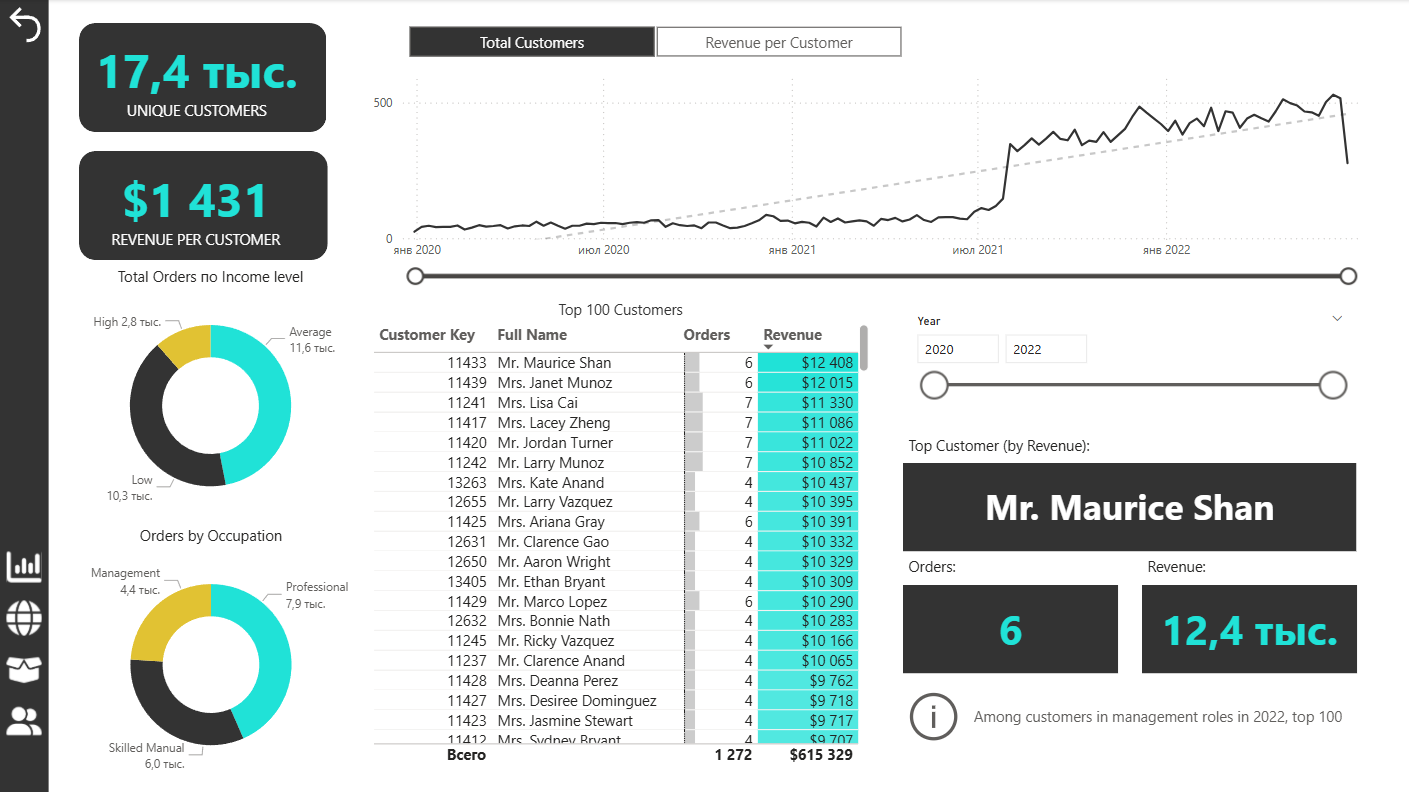

The page's visual inventory and layout, read from the dashboard file:
{"tool":"powerbi","page":{"name":"Customer Detail","canvas":[1280,720],"ordinal":3},"visuals":[{"type":"shape","box":[0,0,45,720],"z":0},{"type":"actionButton","box":[2.4,541.4,54.1,40],"z":0,"group":"g1"},{"type":"shape","box":[72.4,21.5,224.4,98.9],"z":1000},{"type":"actionButton","box":[2.4,587.9,54.1,40],"z":1000,"group":"g1"},{"type":"shape","box":[72.4,138.3,225.6,98.9],"z":2000},{"type":"actionButton","box":[2.4,494.8,54.1,40],"z":2000,"group":"g1"},{"type":"card","fields":{"Values":["Measure Table.Total Customers"]},"box":[57.6,18.2,244.4,107.8],"z":3000},{"type":"actionButton","box":[2.4,634.5,54.1,40],"z":3000,"group":"g1"},{"type":"card","fields":{"Values":["Measure Table.Average Revenue per Customer"]},"box":[56.5,134.9,244.4,107.8],"z":4000},{"type":"lineChart","title":"Customers Trending","fields":{"Y":["Measure Table.Total Customers"],"Category":["Calendar Lookup.Date Hierarchy.Start of Year","Calendar Lookup.Date Hierarchy.Start of Month","Calendar Lookup.Date Hierarchy.Start of Week","Calendar Lookup.Date Hierarchy.Date"]},"box":[333.6,55.4,916.2,206.6],"z":5000},{"type":"donutChart","fields":{"Category":["Customer Lookup.Income level"],"Y":["Measure Table.Total Orders"]},"box":[56.9,243.4,269.4,234.5],"z":6000},{"type":"donutChart","title":"Orders by Occupation","fields":{"Y":["Measure Table.Total Orders"],"Category":["Customer Lookup.Occupation"]},"box":[57.9,477.9,268.4,234.5],"z":7000},{"type":"tableEx","title":"Top 100 Customers","fields":{"Values":["Customer Lookup.CustomerKey","Customer Lookup.Full Name","Measure Table.Total Orders","Measure Table.Total Revenue"]},"box":[333.4,273,460,425.1],"z":8000},{"type":"card","fields":{"Values":["Measure Table.Full Name (Customer Detail)"]},"box":[820,421,411.2,80.1],"z":9000},{"type":"card","fields":{"Values":["Measure Table.Total Order (Customer Detail)"]},"box":[820,531.2,195.1,80.1],"z":10000},{"type":"card","fields":{"Values":["Measure Table.Total Revenue (Customer Detail)"]},"box":[1036,531.2,195.1,80.1],"z":11000},{"type":"textbox","box":[820,390.8,178.9,30.2],"z":12000},{"type":"textbox","box":[820,500.7,178.9,30.2],"z":13000},{"type":"textbox","box":[1036,500.7,178.9,30.2],"z":14000},{"type":"slicer","fields":{"Values":["Calendar Lookup.Year"]},"box":[820,279.9,411.2,98.7],"z":15000},{"type":"actionButton","box":[820,623.3,402.2,55.6],"z":16000},{"type":"actionButton","box":[2.4,0,42.3,47],"z":17000},{"type":"group","id":"g1","title":"Nav. Buttons","box":[2.4,494.8,54.1,179.7],"z":18000},{"type":"slicer","fields":{"Values":["Customer Metric Selection.Customer Metric Selection"]},"box":[346.7,18.1,495.9,37.3],"z":18501}]}

Visuals, with their boxes on the page's 1280x720 design canvas (x1, y1, x2, y2). These are canvas units, not pixel positions in the 1409x792 screenshot, which may show the page scaled, cropped or inside an application window:
shape: bbox=[0, 0, 45, 720]
actionButton: bbox=[2, 541, 56, 581]
shape: bbox=[72, 22, 297, 120]
actionButton: bbox=[2, 588, 56, 628]
shape: bbox=[72, 138, 298, 237]
actionButton: bbox=[2, 495, 56, 535]
card - Measure Table.Total Customers: bbox=[58, 18, 302, 126]
actionButton: bbox=[2, 634, 56, 674]
card - Measure Table.Average Revenue per Customer: bbox=[56, 135, 301, 243]
"Customers Trending" lineChart: bbox=[334, 55, 1250, 262]
donutChart - Customer Lookup.Income level x Measure Table.Total Orders: bbox=[57, 243, 326, 478]
"Orders by Occupation" donutChart: bbox=[58, 478, 326, 712]
"Top 100 Customers" tableEx: bbox=[333, 273, 793, 698]
card - Measure Table.Full Name (Customer Detail): bbox=[820, 421, 1231, 501]
card - Measure Table.Total Order (Customer Detail): bbox=[820, 531, 1015, 611]
card - Measure Table.Total Revenue (Customer Detail): bbox=[1036, 531, 1231, 611]
textbox: bbox=[820, 391, 999, 421]
textbox: bbox=[820, 501, 999, 531]
textbox: bbox=[1036, 501, 1215, 531]
slicer - Calendar Lookup.Year: bbox=[820, 280, 1231, 379]
actionButton: bbox=[820, 623, 1222, 679]
actionButton: bbox=[2, 0, 45, 47]
"Nav. Buttons" group: bbox=[2, 495, 56, 674]
slicer - Customer Metric Selection.Customer Metric Selection: bbox=[347, 18, 843, 55]
